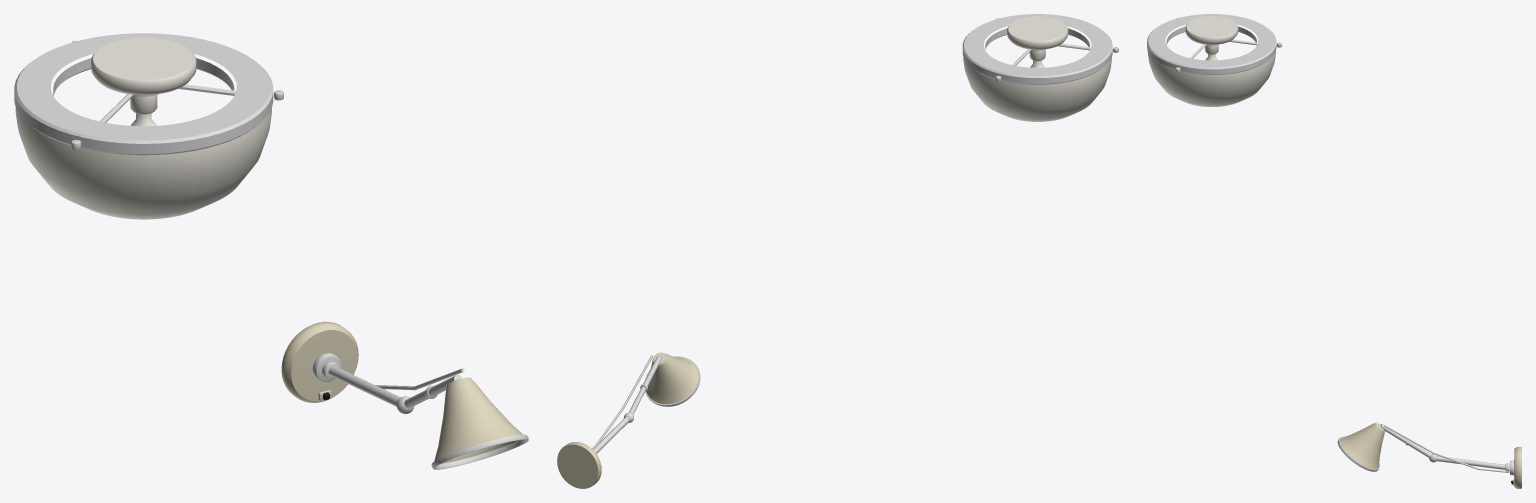
The model's file is hosp_lampe.glb.
The picture shows the model from 3 angles, left to right: view 1: azimuth 30°, elevation 25°; view 2: azimuth 150°, elevation 25°; view 3: azimuth 270°, elevation 25°; orthographic projection. The views are drawn at different scales.
Parts seen in each view (by area): view 1: plafonnier, applique; view 2: plafonnier, applique; view 3: plafonnier, applique.
Part boxes in pixels (x1,y1,x2,y2): plafonnier: (14,33,283,219); applique: (281,321,528,469); plafonnier: (962,14,1118,121); applique: (557,352,700,488); plafonnier: (1147,14,1281,106); applique: (1337,422,1521,488).
Bounding box in the file's own units: 1.19 × 1.22 × 1.21.
